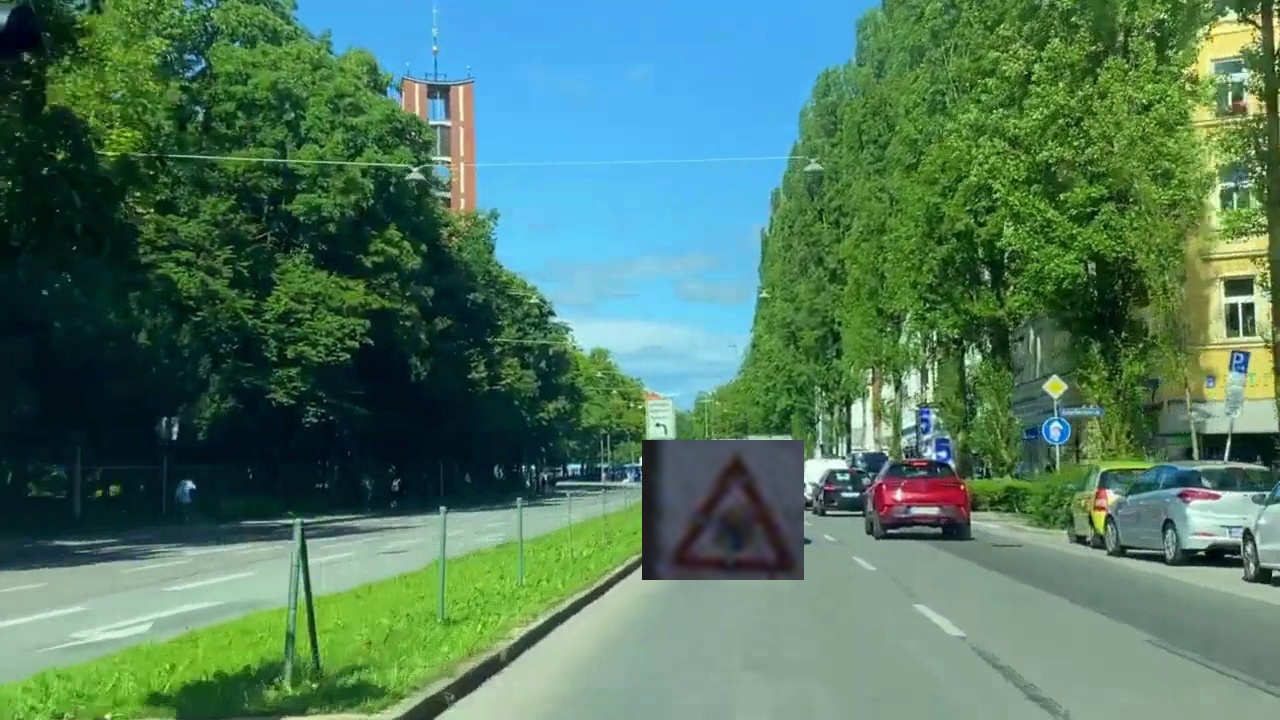Ice/snow: (642, 440, 804, 580)
